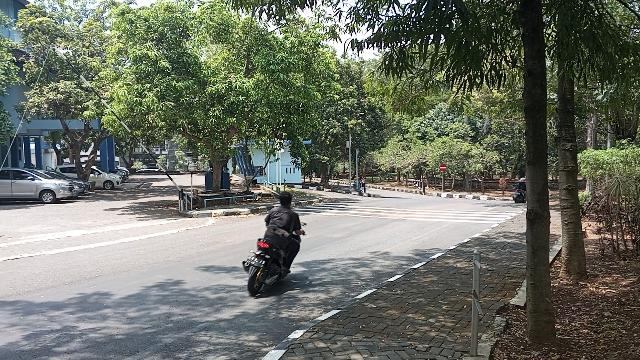motor: (242, 238, 302, 296)
non-helm: (280, 193, 293, 208)
